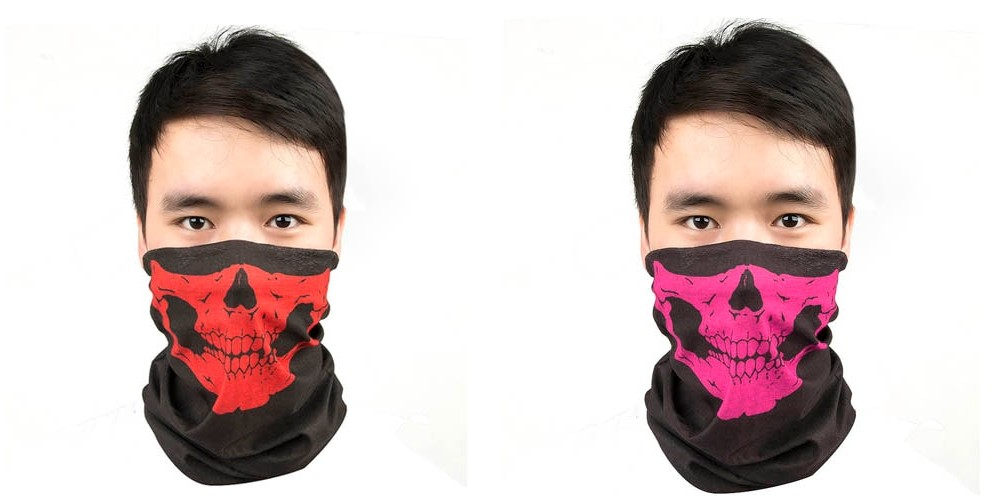with_mask: (629, 105, 861, 426), (126, 86, 348, 412)
